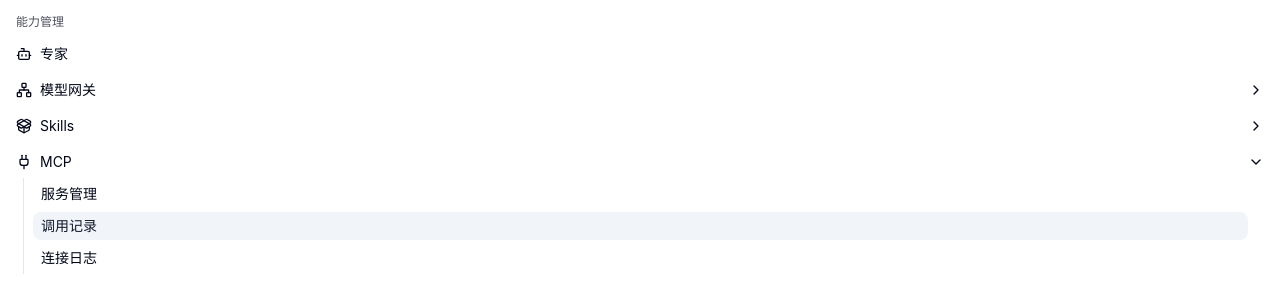
筛选记录路由自动展开 MCP，支持键盘折叠和展开
Click the button "MCP" at (56, 162), box top-left (8, 146), bottom-right (1272, 178)
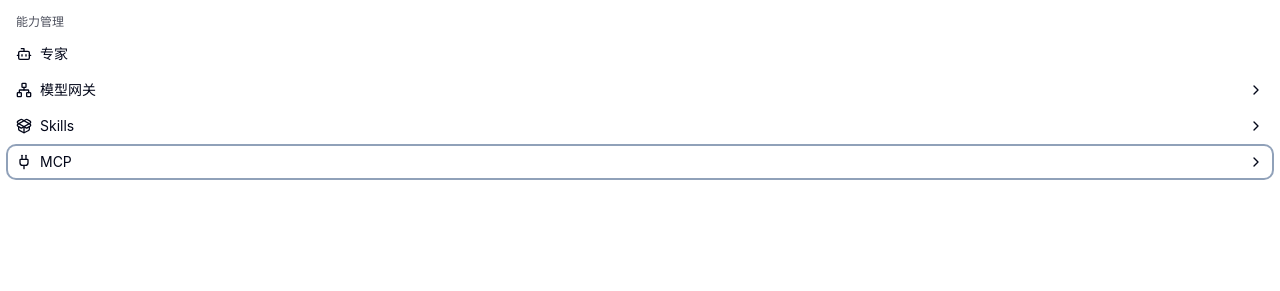
Expected: the button "MCP" is collapsed, top-left (8, 146), bottom-right (1272, 178)
Press Enter
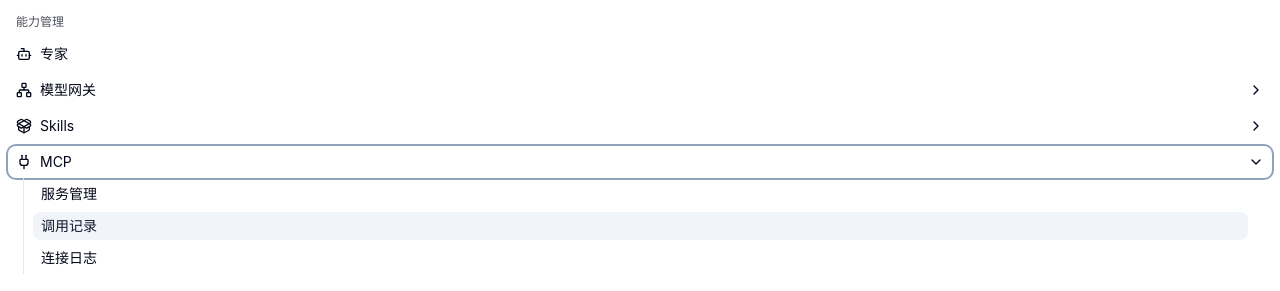
Expected: the button "MCP" is expanded, top-left (8, 146), bottom-right (1272, 178)
Expected: the link "连接日志" is shown, top-left (41, 249), bottom-right (97, 266)
